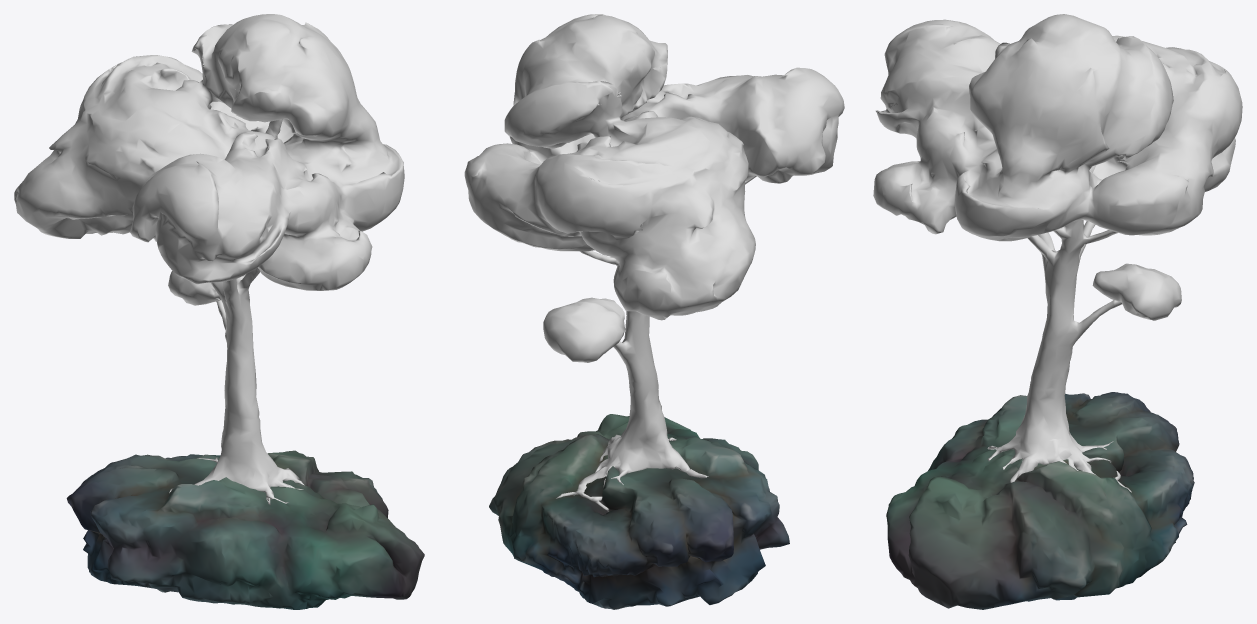
The model's file is TreeOnStone_LODs_Example.fbx.
3 renders of one model, left to right at view 1: azimuth 30°, elevation 25°; view 2: azimuth 150°, elevation 25°; view 3: azimuth 270°, elevation 25°, orthographic.
Visible parts, largest first — view 1: Crown_LOD0, Stone_LOD0, Trunk_LOD0; view 2: Crown_LOD0, Stone_LOD0, Trunk_LOD0; view 3: Crown_LOD0, Stone_LOD0, Trunk_LOD0.
Part boxes in pixels (x1=…): Crown_LOD0: x1=14, y1=14, x2=404, y2=305; Stone_LOD0: x1=66, y1=450, x2=424, y2=609; Trunk_LOD0: x1=169, y1=118, x2=304, y2=505; Crown_LOD0: x1=464, y1=14, x2=844, y2=362; Stone_LOD0: x1=489, y1=414, x2=789, y2=609; Trunk_LOD0: x1=556, y1=176, x2=756, y2=511; Crown_LOD0: x1=873, y1=14, x2=1242, y2=320; Stone_LOD0: x1=886, y1=392, x2=1194, y2=609; Trunk_LOD0: x1=987, y1=219, x2=1131, y2=492.
Size of what is drawn, in the model's own units: 201 by 354 by 212.
